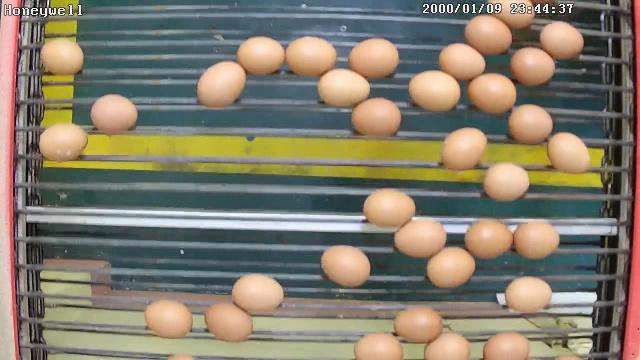egg: (195, 59, 247, 108), (348, 94, 403, 140), (392, 214, 448, 259), (346, 35, 399, 82), (408, 68, 462, 114), (283, 34, 339, 78), (425, 243, 477, 290), (38, 118, 90, 164), (202, 298, 254, 344), (464, 11, 514, 58), (438, 125, 488, 172), (319, 243, 371, 288), (364, 188, 418, 230), (230, 272, 284, 314), (467, 72, 518, 116), (436, 40, 486, 84), (316, 68, 371, 108), (462, 216, 512, 260), (480, 160, 531, 202), (545, 131, 592, 176), (143, 296, 191, 340), (89, 93, 138, 136), (236, 35, 286, 77), (507, 102, 554, 146), (511, 218, 560, 260), (393, 305, 445, 344), (537, 20, 585, 62), (506, 274, 554, 316), (509, 47, 557, 88), (39, 38, 84, 76)
